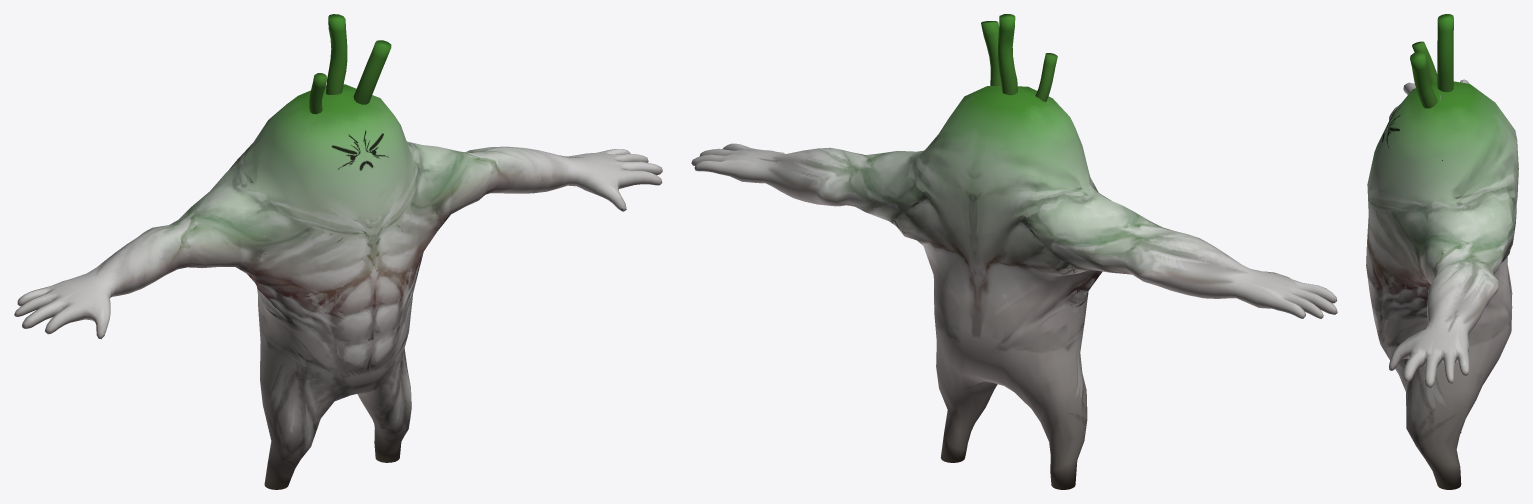
Rendered from daikon_man_tpose.fbx.
The picture shows the model from 3 angles, left to right: view 1: azimuth 30°, elevation 25°; view 2: azimuth 150°, elevation 25°; view 3: azimuth 270°, elevation 25°; orthographic projection. The views are drawn at different scales.
Parts seen in each view (by area): view 1: daikon_man; view 2: daikon_man; view 3: daikon_man.
Part boxes in pixels (x1,y1,x2,y2): daikon_man: (14,14,662,489); daikon_man: (691,14,1337,489); daikon_man: (1366,14,1518,489).
Size of the model in its own units: 938 by 637 by 199.
Materials: 1 (1 with a texture image).
